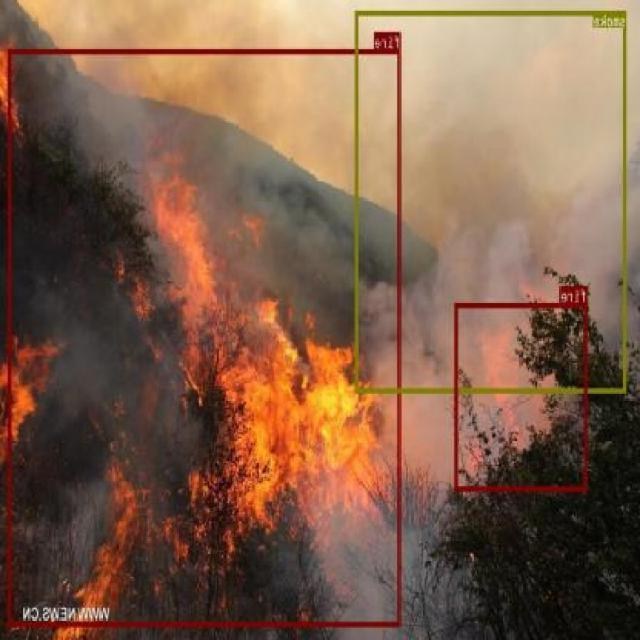fire: (9, 49, 402, 626), (455, 302, 588, 490)
smoke: (356, 10, 627, 392)
